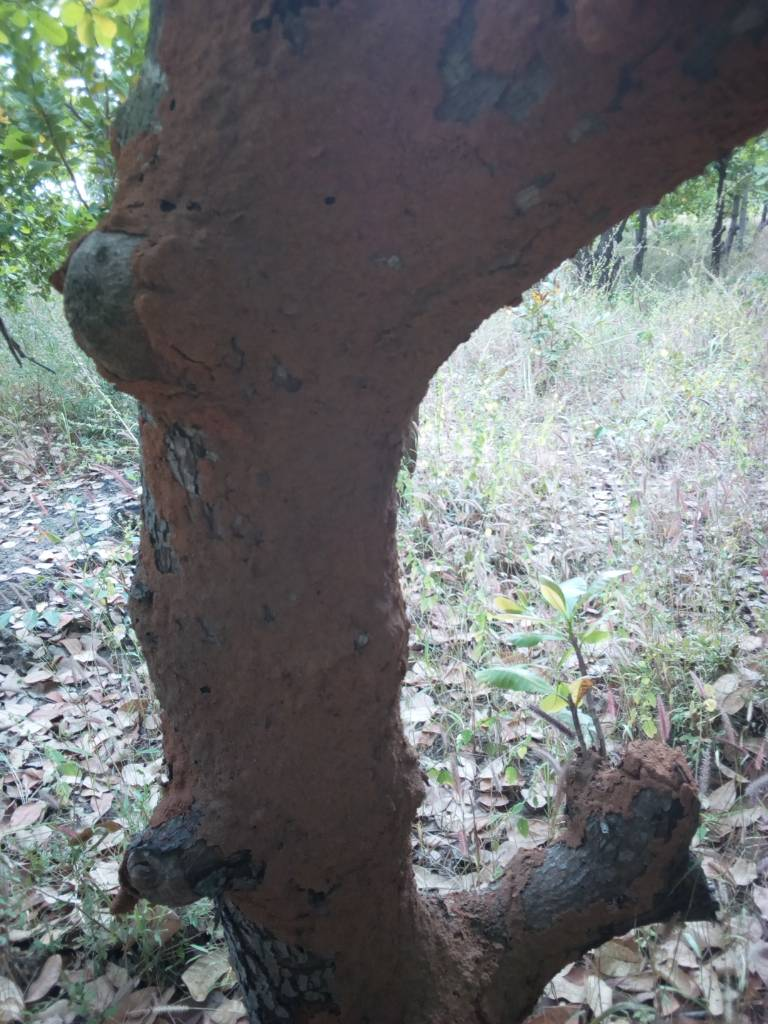Virose: (45, 22, 629, 992)
